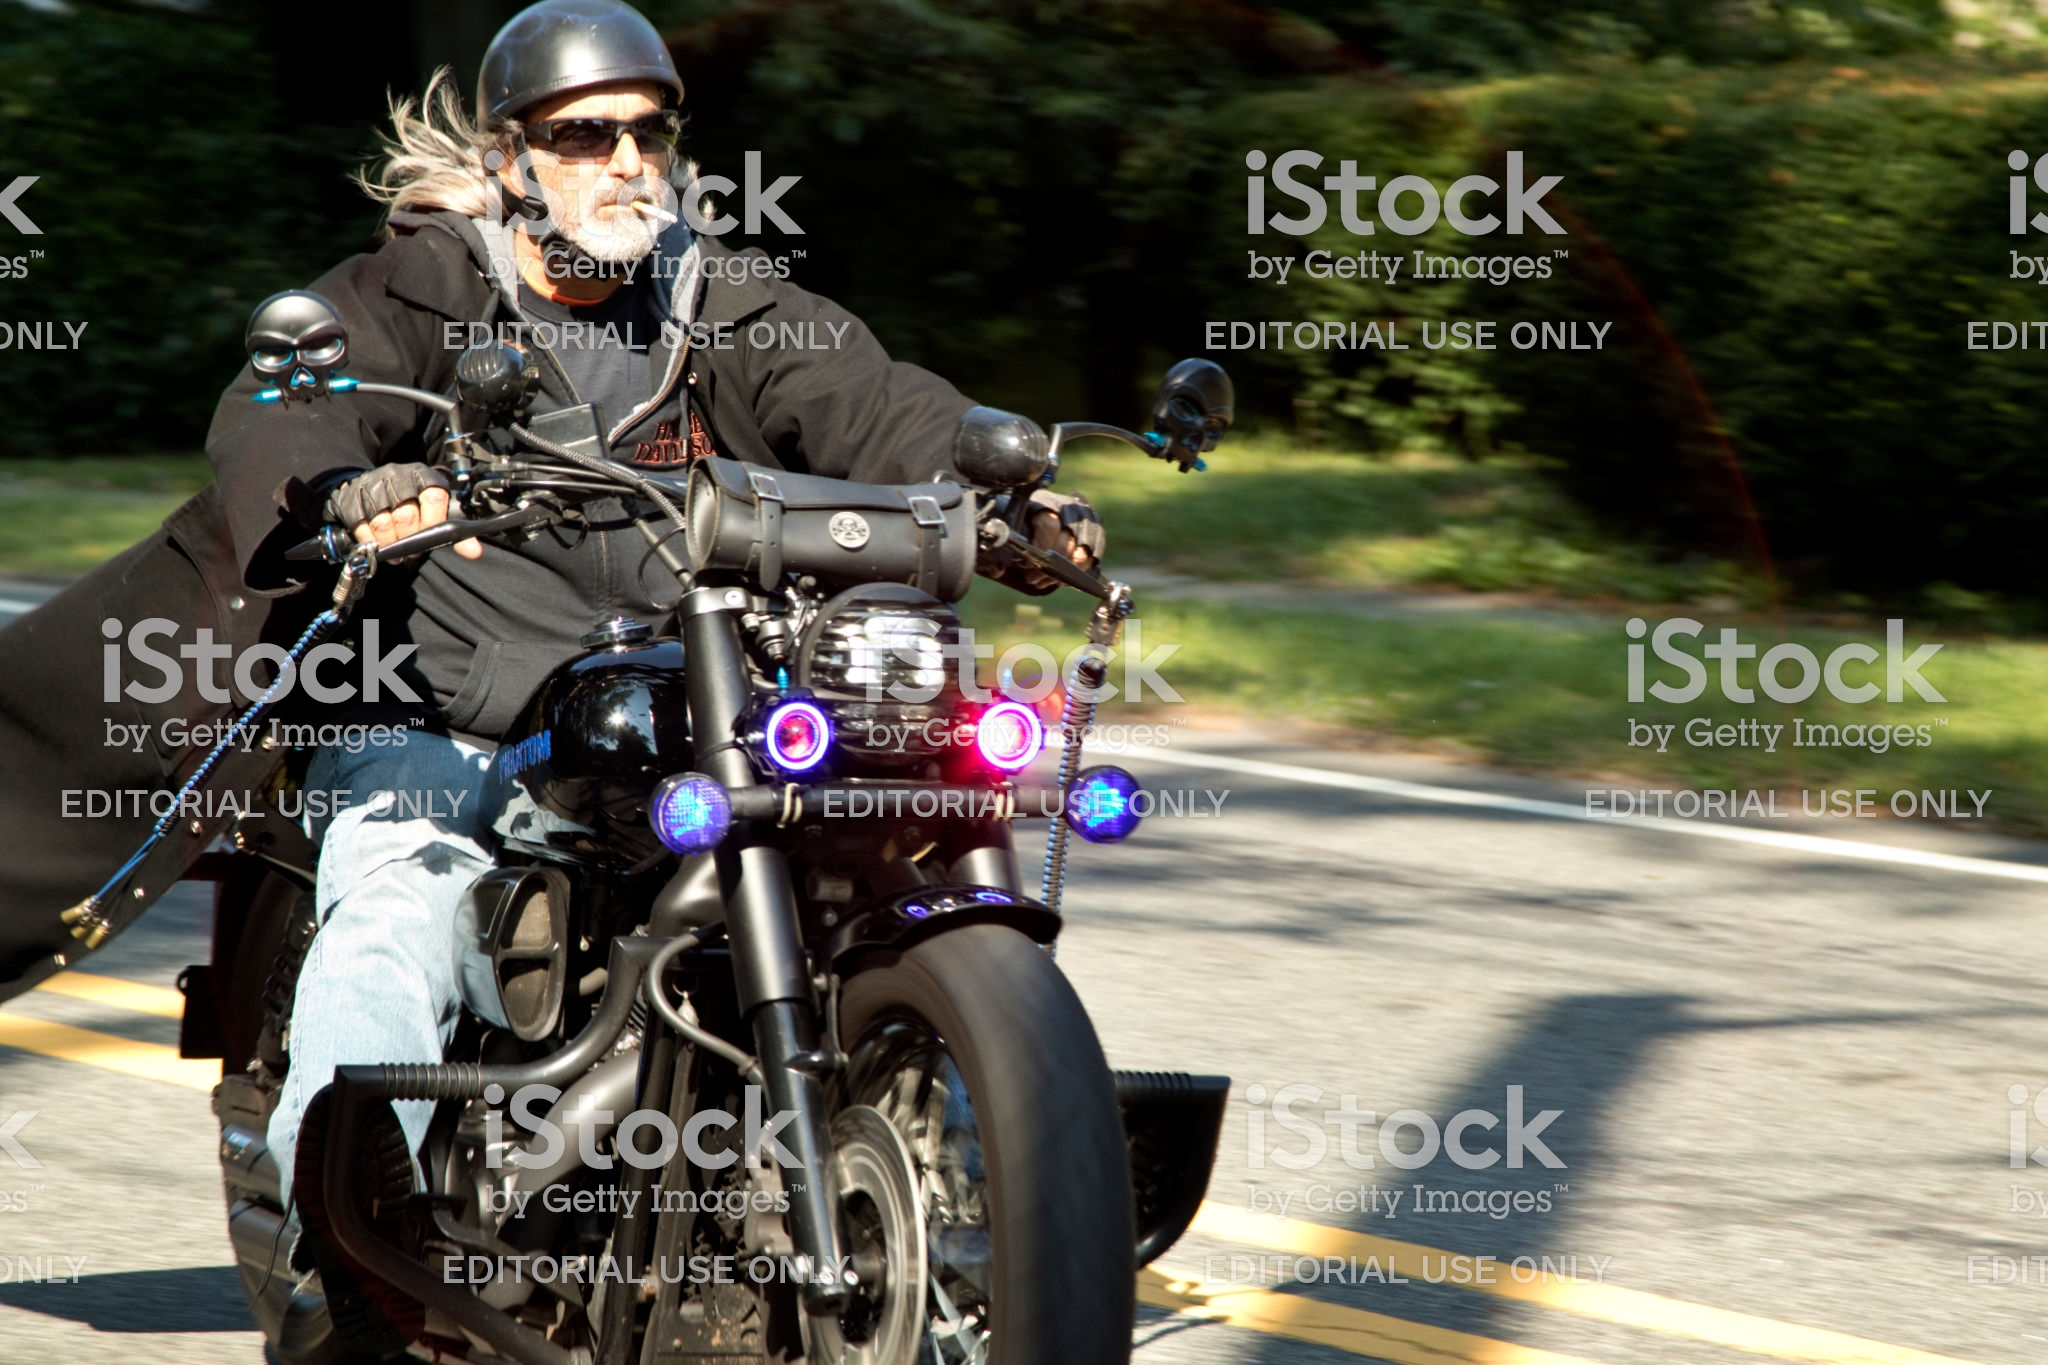helmet: (445, 15, 681, 101)
